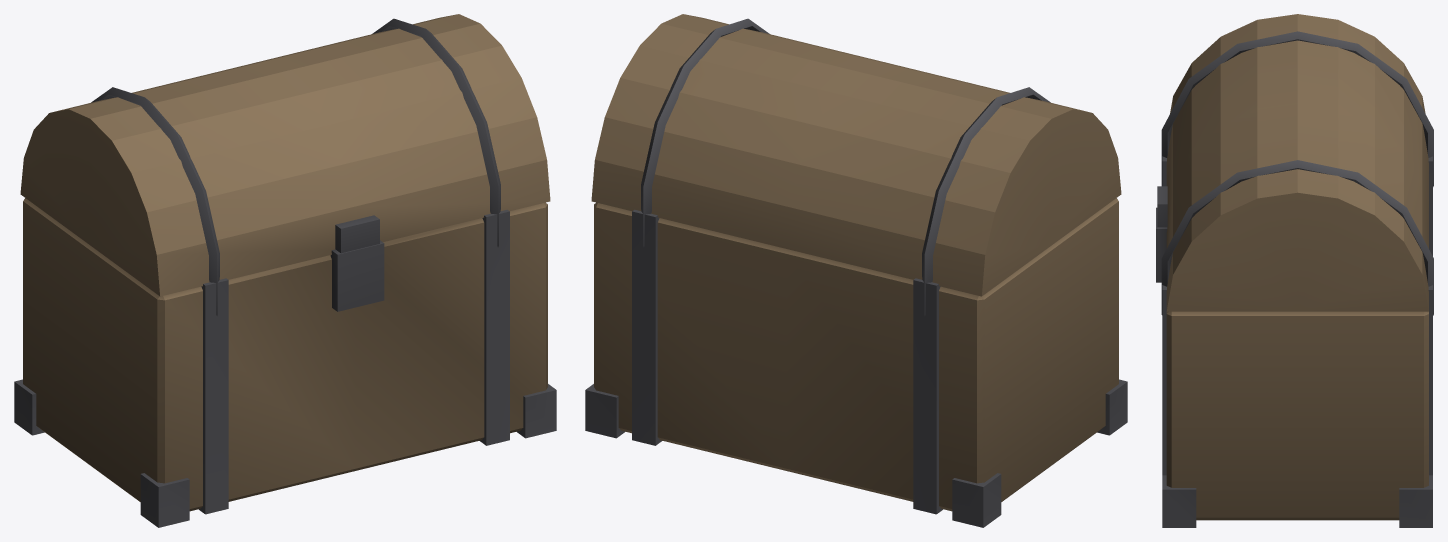
Rendered from loot_chest.glb.
3 renders of one model, left to right at view 1: azimuth 30°, elevation 25°; view 2: azimuth 150°, elevation 25°; view 3: azimuth 270°, elevation 25°, orthographic. The views are drawn at different scales.
Parts seen in each view (by area): view 1: ext, lid; view 2: ext, lid; view 3: lid, ext.
Boxes of the visible parts, x1,y1,x2,y2 form: ext: [14, 198, 556, 527]; lid: [20, 14, 550, 315]; ext: [585, 198, 1127, 527]; lid: [591, 14, 1121, 315]; lid: [1157, 14, 1433, 315]; ext: [1156, 156, 1432, 527].
Bounding box in the file's own units: 1.02 × 0.89 × 0.6567.
